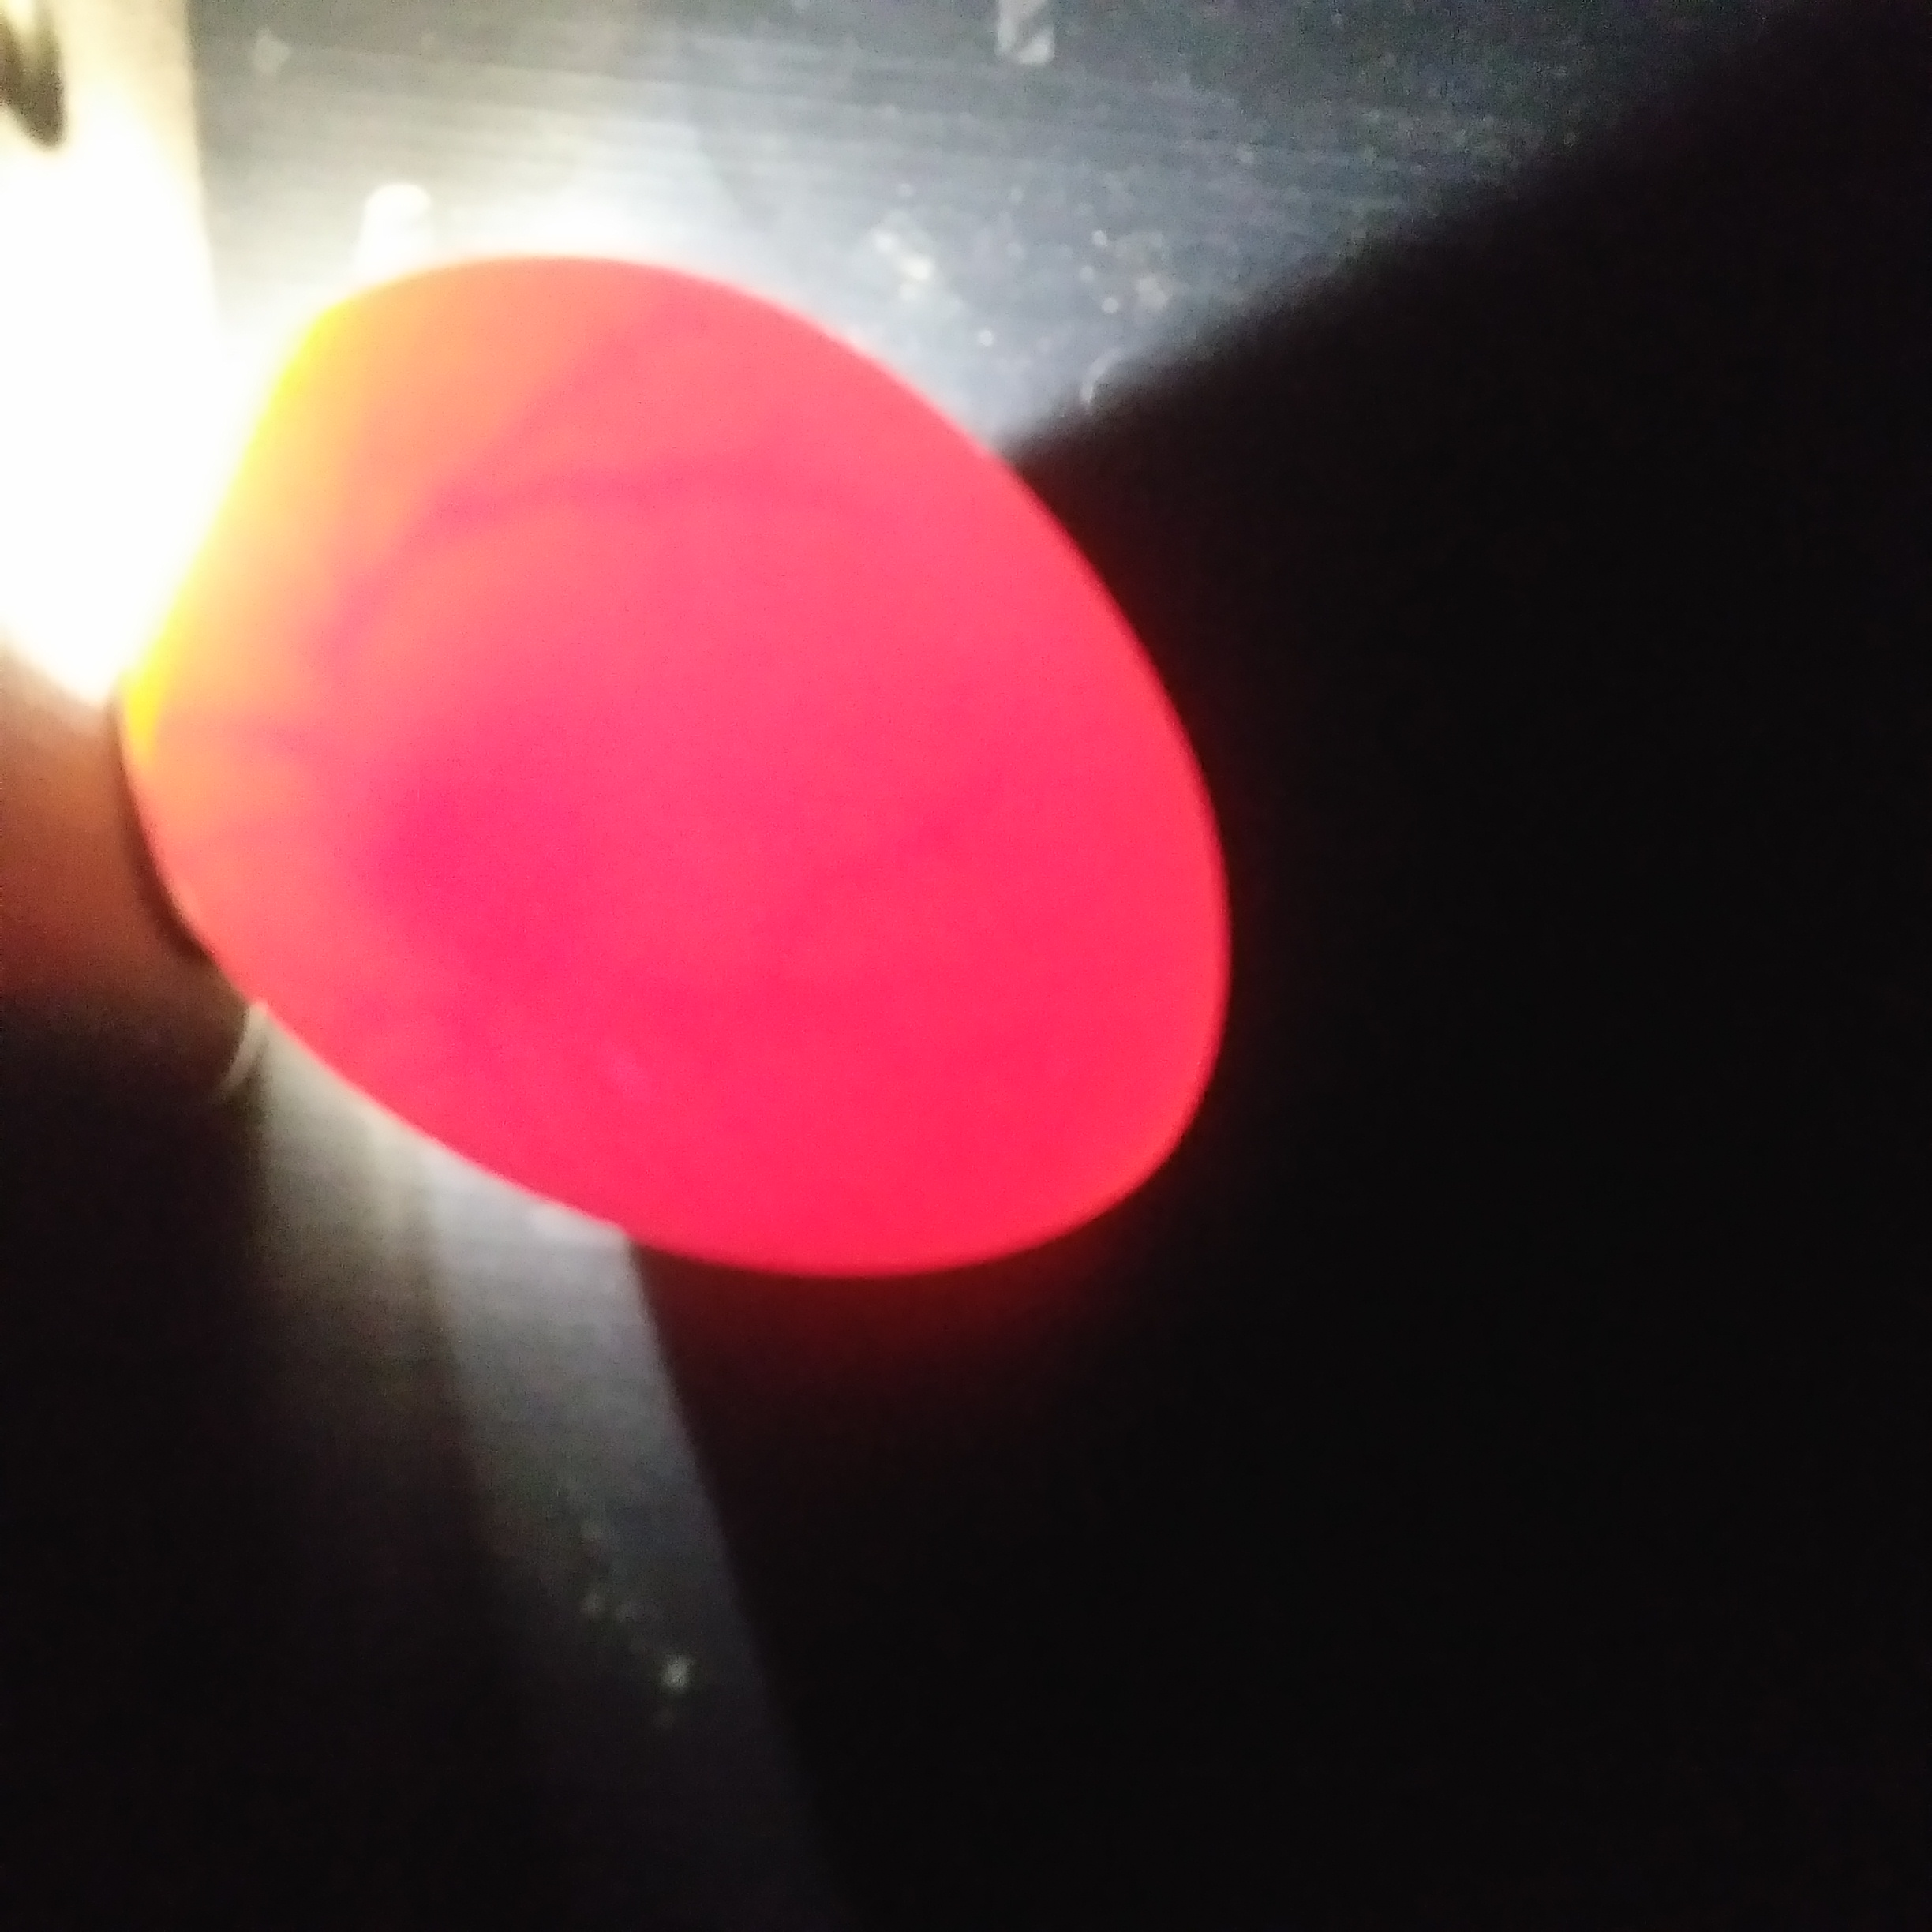bloodcell: (370, 331, 764, 602)
embryo: (338, 717, 531, 879)
